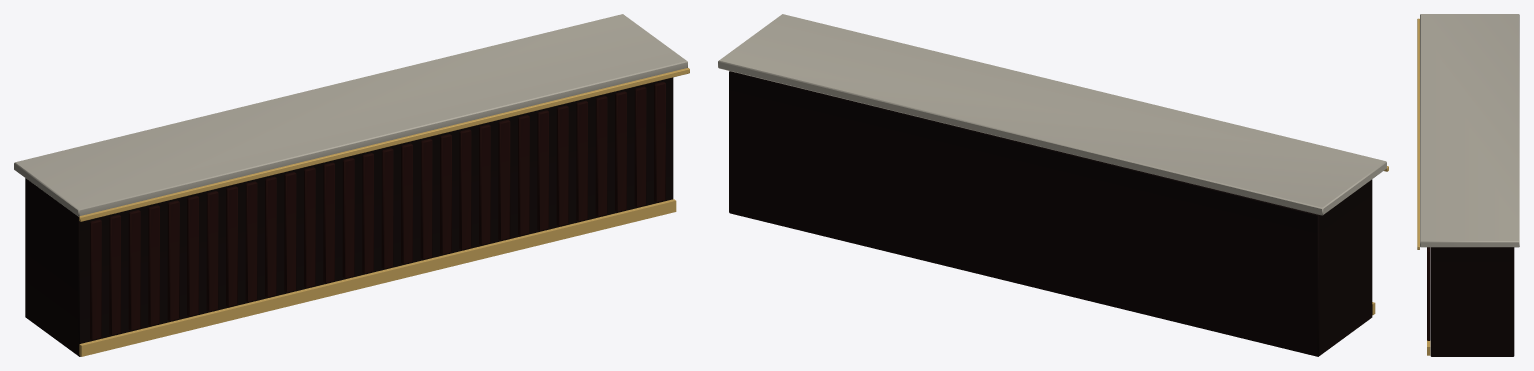
Rendered from tea-counter.glb.
3 views of the same model, side by side, from view 1: azimuth 30°, elevation 25°; view 2: azimuth 150°, elevation 25°; view 3: azimuth 270°, elevation 25° (orthographic). The views are drawn at different scales.
Parts seen in each view (by area): view 1: body__wood, top__marble, trim__brass; view 2: body__wood, top__marble; view 3: top__marble, body__wood, trim__brass.
Part boxes in pixels (x1,y1,x2,y2): body__wood: (25, 77, 673, 356); top__marble: (14, 14, 687, 216); trim__brass: (79, 68, 689, 356); body__wood: (729, 71, 1372, 356); top__marble: (718, 14, 1386, 215); top__marble: (1420, 14, 1519, 247); body__wood: (1427, 247, 1514, 356); trim__brass: (1417, 18, 1430, 355).
Bounding box in the file's own units: 4 × 0.97 × 0.76.
